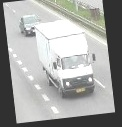truck: (34, 18, 95, 100)
